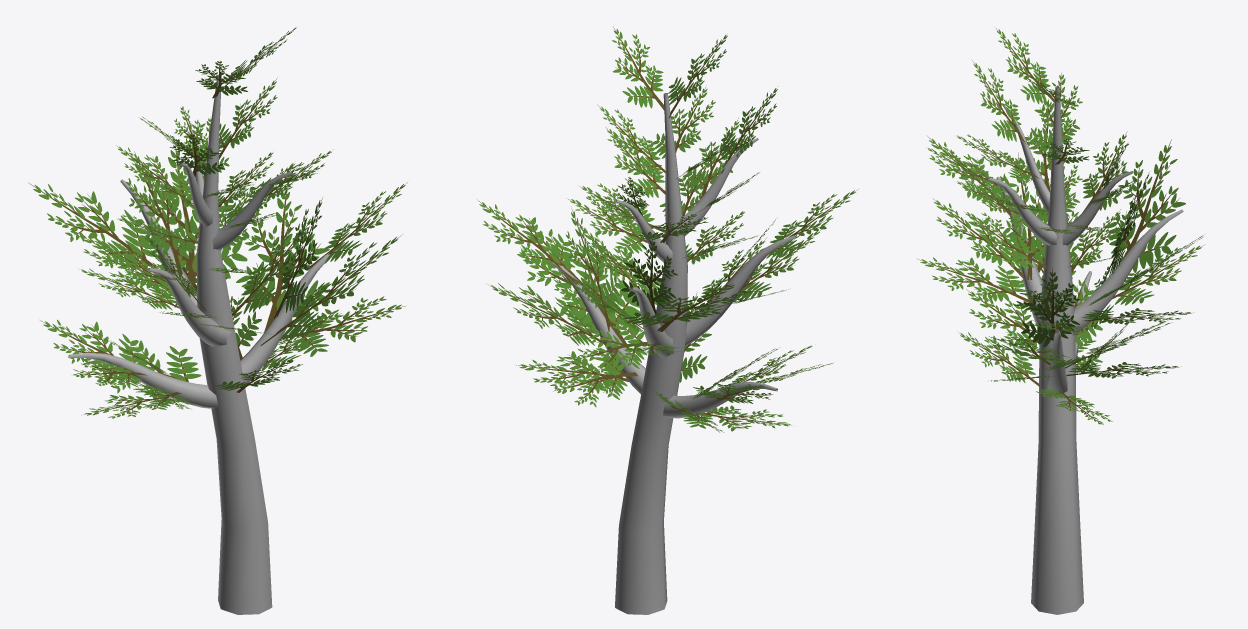
The model's file is Tree 1.fbx.
3 renders of one model, left to right at view 1: azimuth 30°, elevation 25°; view 2: azimuth 150°, elevation 25°; view 3: azimuth 270°, elevation 25°, orthographic. The views are drawn at different scales.
Parts seen in each view (by area): view 1: polySurface120; view 2: polySurface120; view 3: polySurface120.
Part boxes in pixels (x1=…): polySurface120: x1=28, y1=27, x2=407, y2=614; polySurface120: x1=478, y1=27, x2=858, y2=614; polySurface120: x1=917, y1=28, x2=1203, y2=614.
Bounding box in the file's own units: 7.82 × 11.74 × 6.31.
